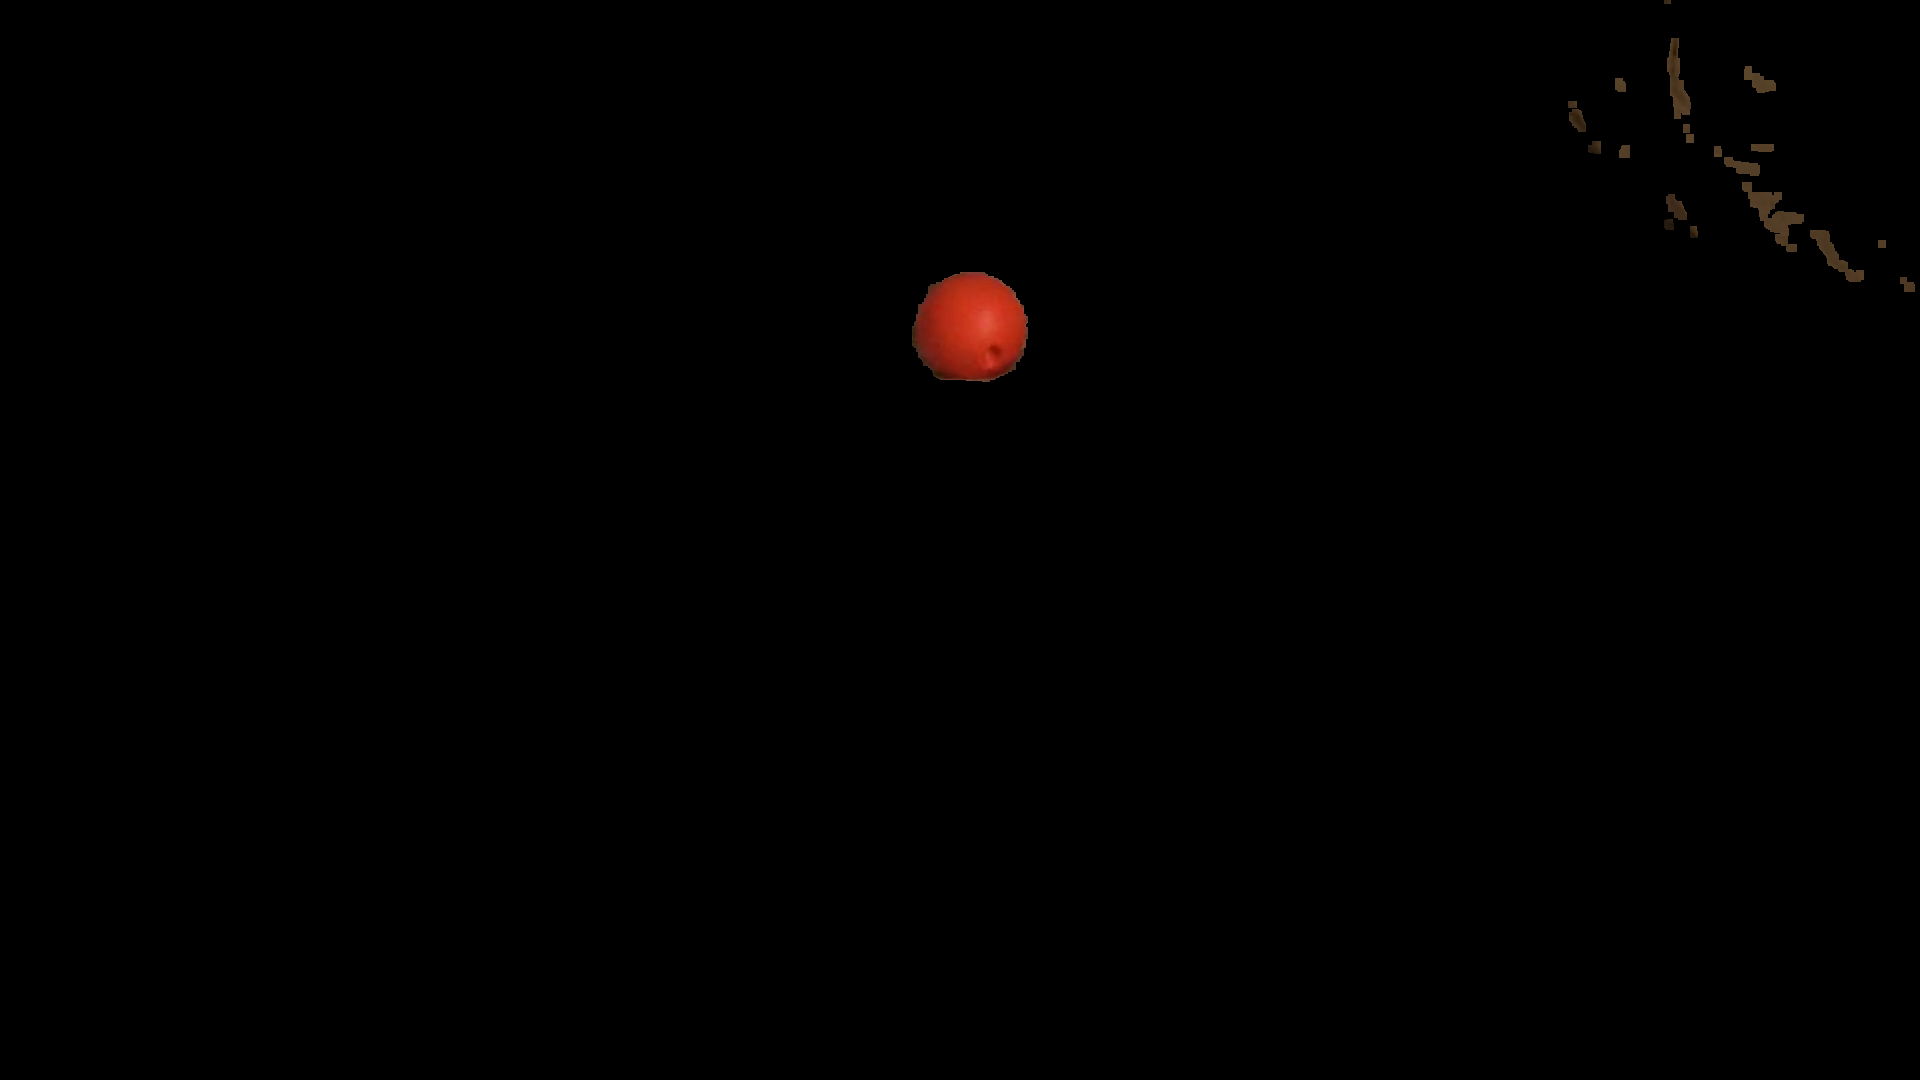Ball: (916, 268, 1027, 382)
